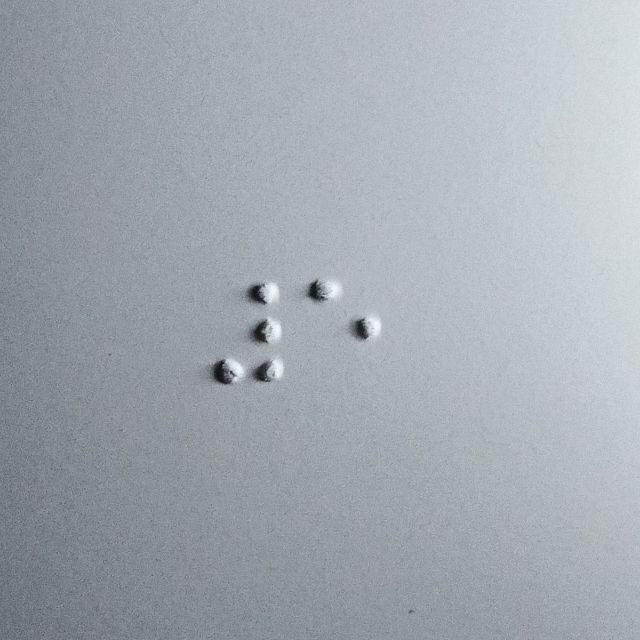5: (309, 277, 379, 383)
number: (215, 283, 284, 388)
